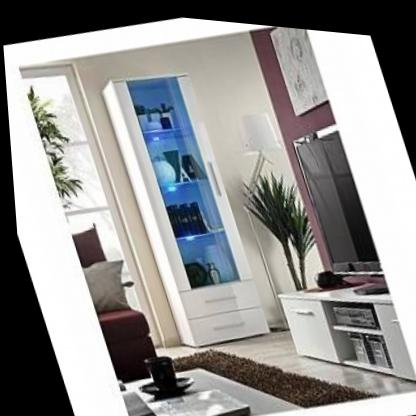Carpet: (171, 346, 367, 403)
Cupboard: (97, 57, 272, 353)
